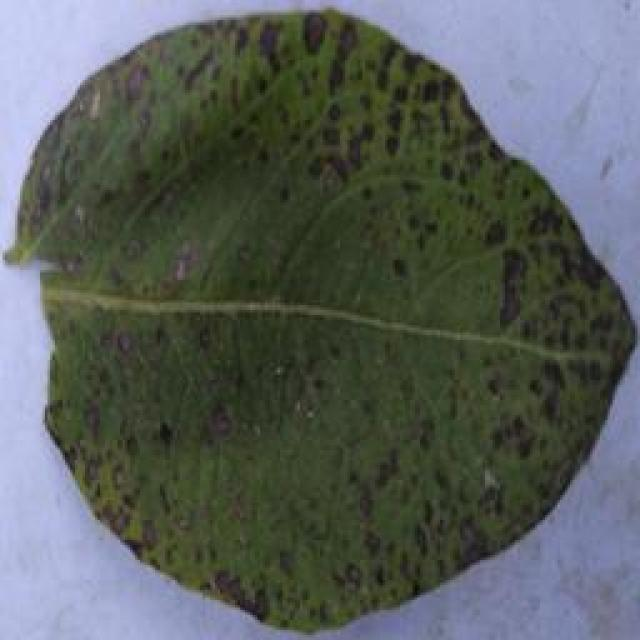Potato_Early_Blight: (7, 5, 633, 631)
